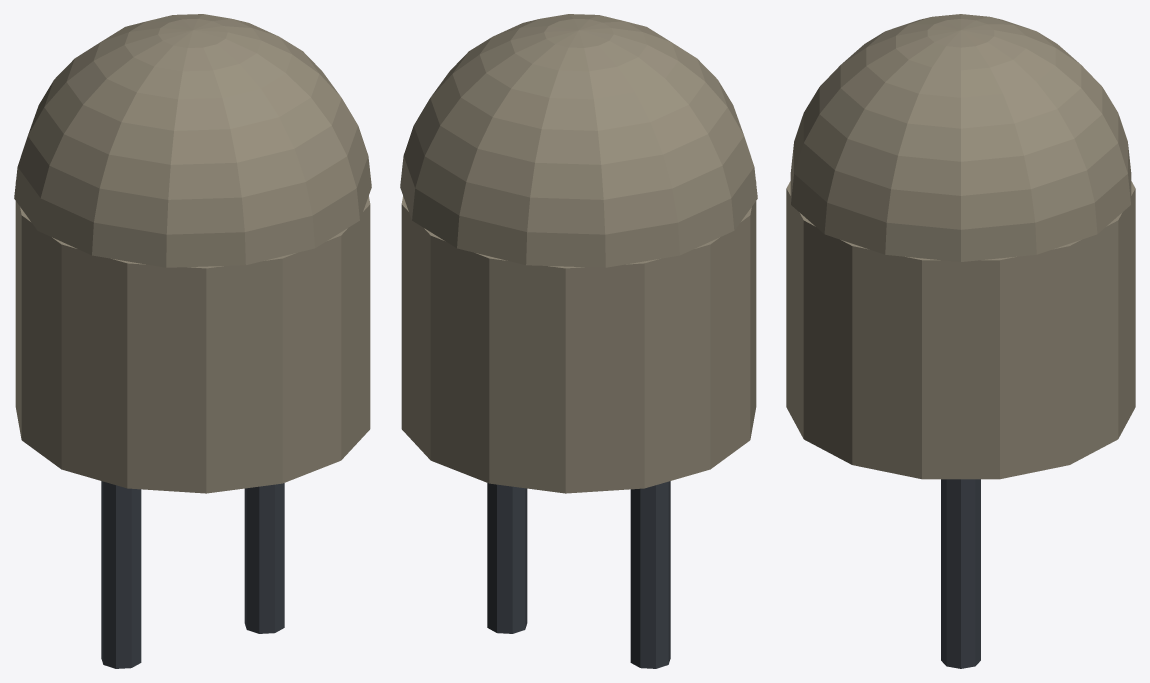
The model's file is led.glb.
3 renders of one model, left to right at view 1: azimuth 30°, elevation 25°; view 2: azimuth 150°, elevation 25°; view 3: azimuth 270°, elevation 25°, orthographic. The views are drawn at different scales.
Parts seen in each view (by area): view 1: epoxy, lead; view 2: epoxy, lead; view 3: epoxy, lead.
Boxes of the visible parts, x1=… form: epoxy: x1=14, y1=14, x2=371, y2=493; lead: x1=101, y1=481, x2=284, y2=668; epoxy: x1=400, y1=14, x2=757, y2=493; lead: x1=487, y1=481, x2=670, y2=668; epoxy: x1=786, y1=14, x2=1135, y2=479; lead: x1=941, y1=479, x2=980, y2=668.
Size of the model in its own units: 0.026 by 0.049 by 0.026.
